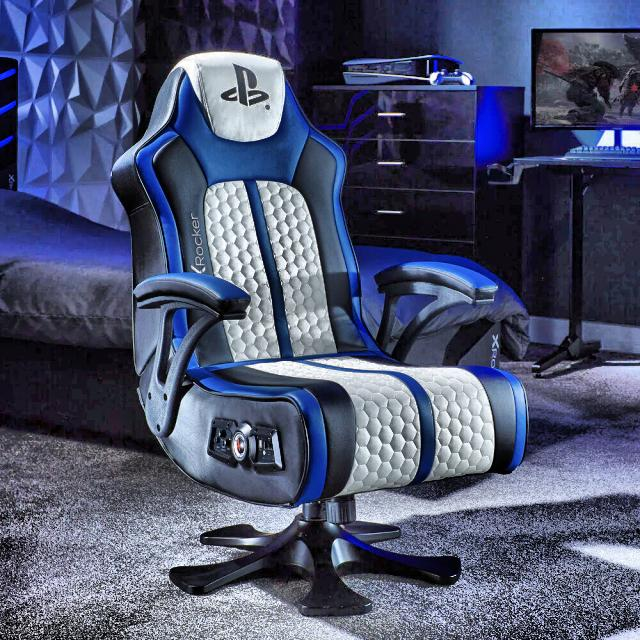cadeira: (110, 46, 537, 620)
